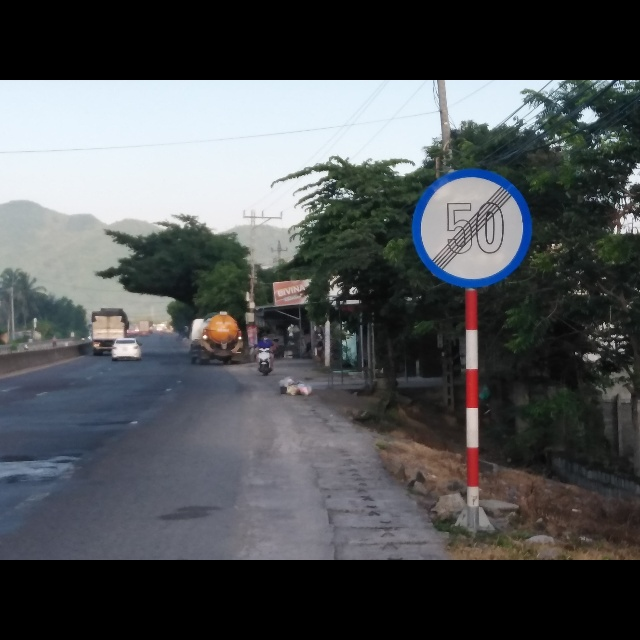Hết hạn chế tốc độ tối đa 50km/h: (408, 167, 533, 291)
